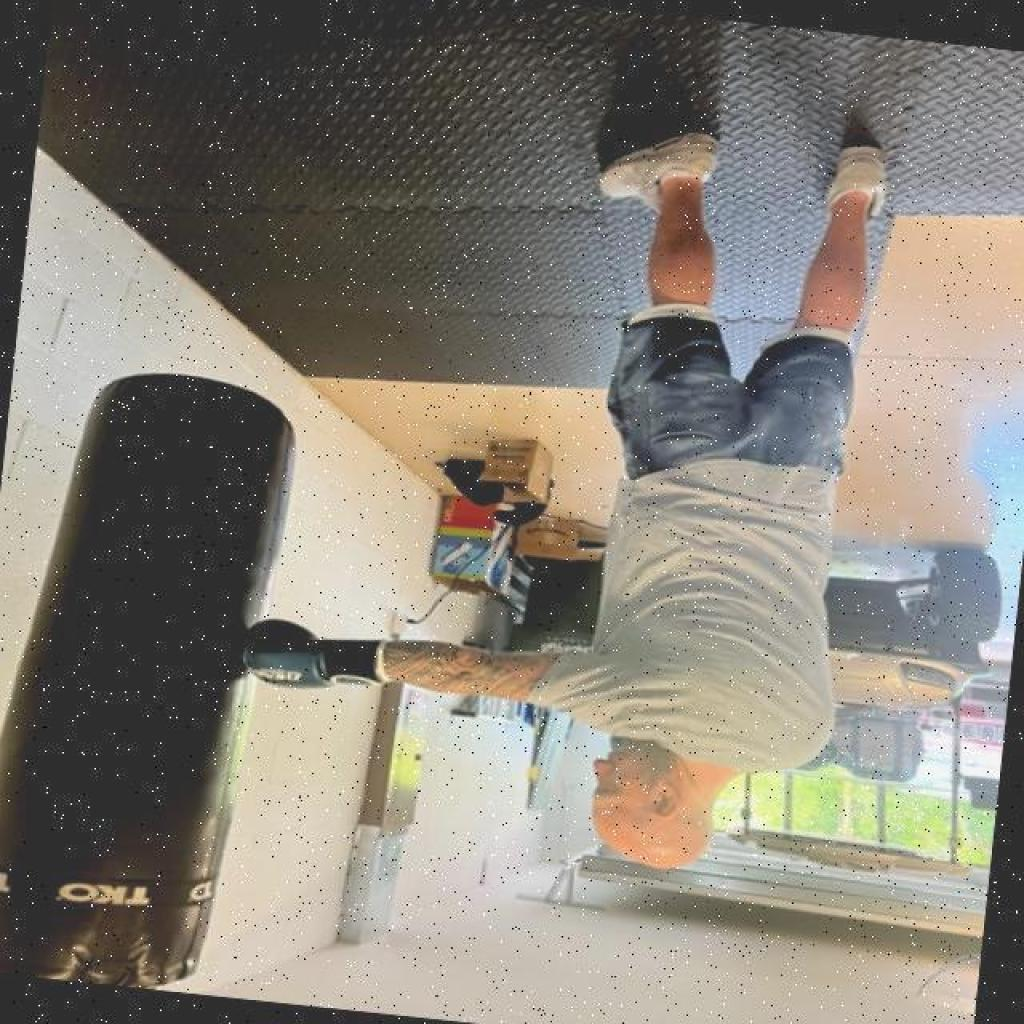jab: (171, 506, 866, 923)
